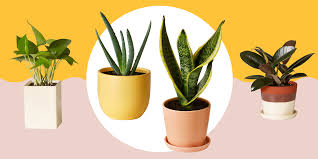plant: (157, 15, 228, 137), (9, 16, 79, 133), (238, 39, 316, 117), (90, 12, 156, 104)
